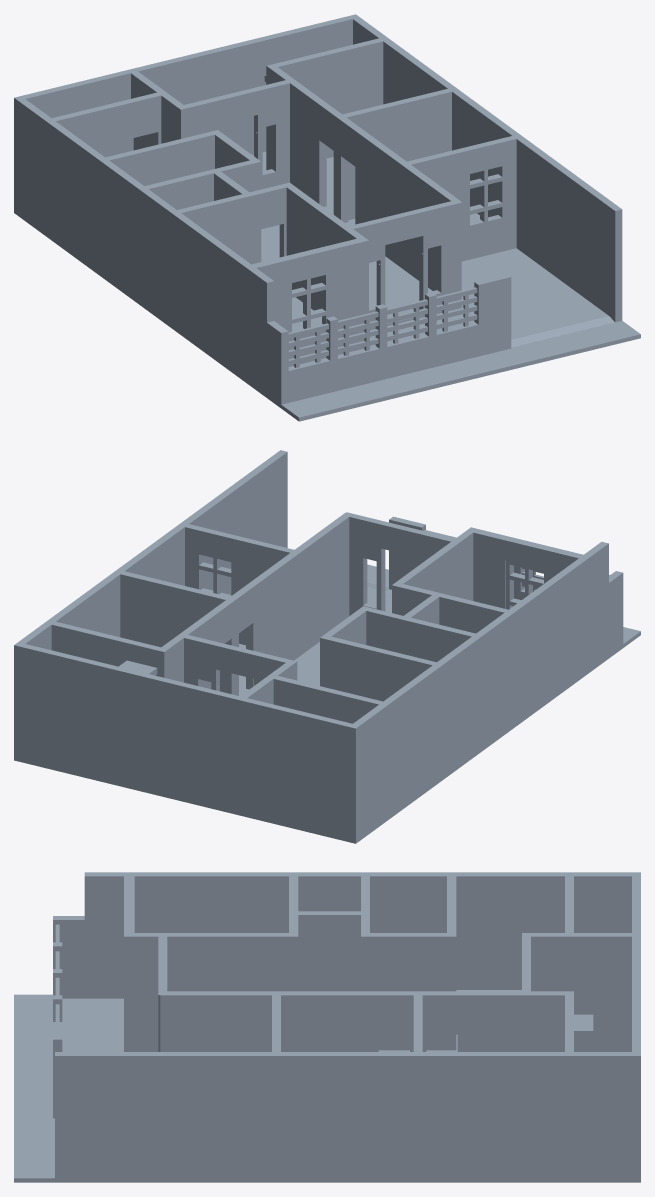
The model's file is smarthouse.obj.
The picture shows the model from 3 angles, top to bottom: view 1: azimuth 30°, elevation 25°; view 2: azimuth 150°, elevation 25°; view 3: azimuth 270°, elevation 25°; orthographic projection. The views are drawn at different scales.
Parts seen in each view (by area): view 1: 0, 6, 9, 8, 13, 14, 11, 12, 7, 3, 2; view 2: 0, 6, 9, 8; view 3: 0.
Part boxes in pixels (<box>): 0: <box>14,14,640,421</box>; 6: <box>369,231,444,315</box>; 9: <box>467,161,505,230</box>; 8: <box>288,270,329,339</box>; 13: <box>436,287,477,331</box>; 14: <box>387,299,427,343</box>; 11: <box>288,323,328,367</box>; 12: <box>338,311,378,355</box>; 7: <box>218,110,278,179</box>; 3: <box>317,135,335,215</box>; 2: <box>339,151,356,224</box>; 0: <box>14,450,640,843</box>; 6: <box>360,544,420,611</box>; 9: <box>196,550,234,596</box>; 8: <box>506,560,546,609</box>; 0: <box>14,872,640,1182</box>.
Bounding box in the file's own units: 9000 × 2900 × 13000.
